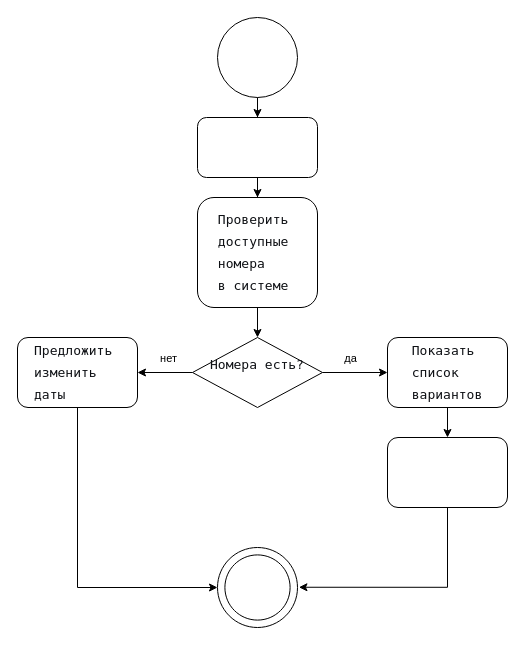
The diagram is 525 pixels wide and 645 high, and some of its shapes have lost their labels. The centre of each missing label's shape, as x and y in pixels:
Гость выбирает номер: point (447, 472)
Получить даты заезда: point (257, 147)
